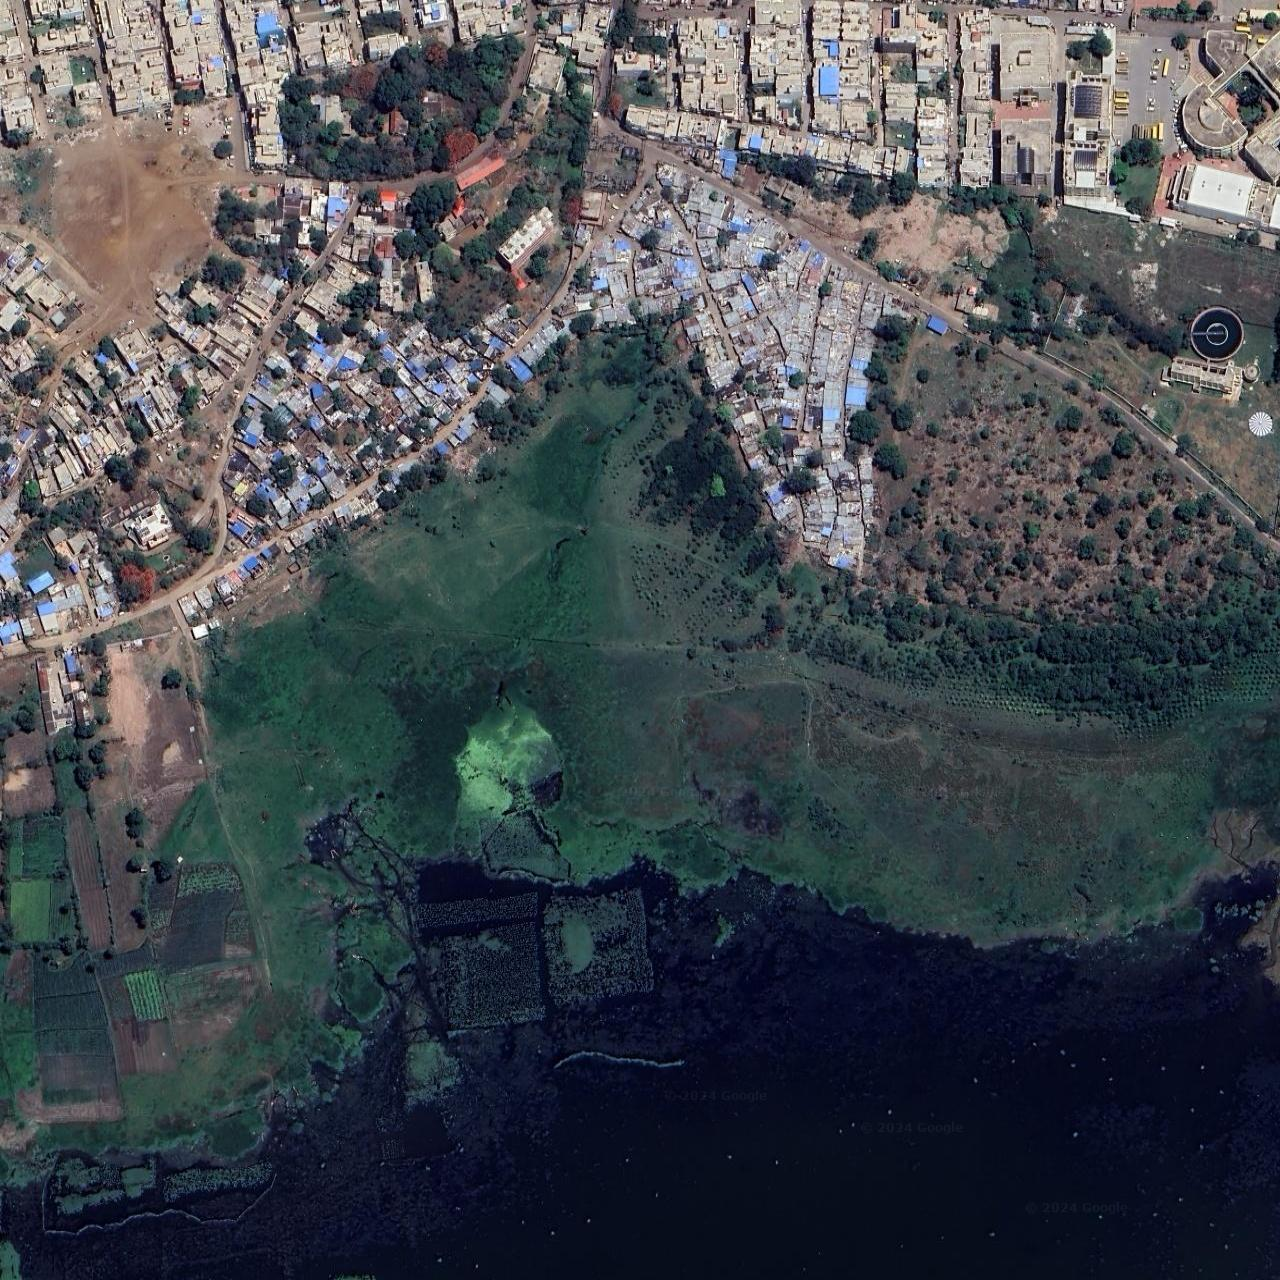greenery: (334, 166, 1280, 907), (5, 563, 417, 1177), (286, 22, 611, 336), (219, 184, 338, 287)
house: (491, 131, 908, 594), (604, 0, 1279, 245), (2, 161, 281, 731), (227, 267, 546, 561), (0, 9, 553, 131), (1107, 0, 1274, 158)
water: (4, 867, 1276, 1280)
